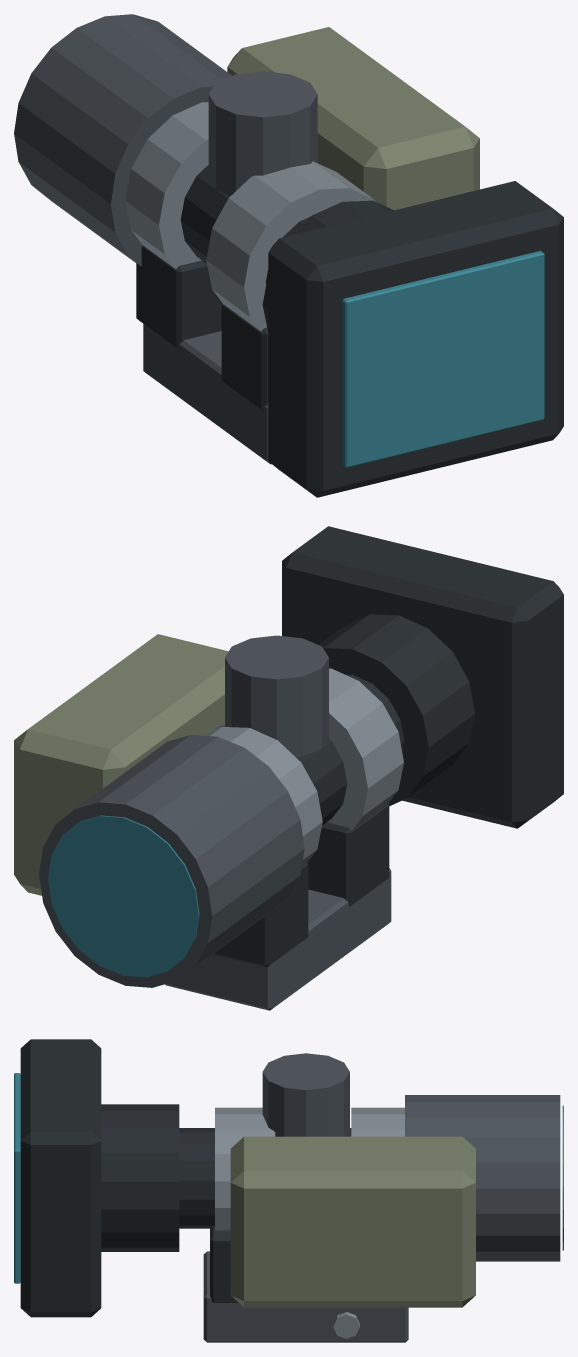
File: att_optic_thermal.glb
The picture shows the model from 3 angles, top to bottom: view 1: azimuth 30°, elevation 25°; view 2: azimuth 150°, elevation 25°; view 3: azimuth 270°, elevation 25°; orthographic projection. The views are drawn at different scales.
Parts seen in each view (by area): view 1: Geometry_att_optic_thermal; view 2: Geometry_att_optic_thermal; view 3: Geometry_att_optic_thermal.
Part boxes in pixels (bbox=[...]): Geometry_att_optic_thermal: bbox=[14, 14, 563, 497]; Geometry_att_optic_thermal: bbox=[14, 526, 563, 1010]; Geometry_att_optic_thermal: bbox=[14, 1039, 563, 1342].
Size of the model in its own units: 0.0845 by 0.082 by 0.1637.
